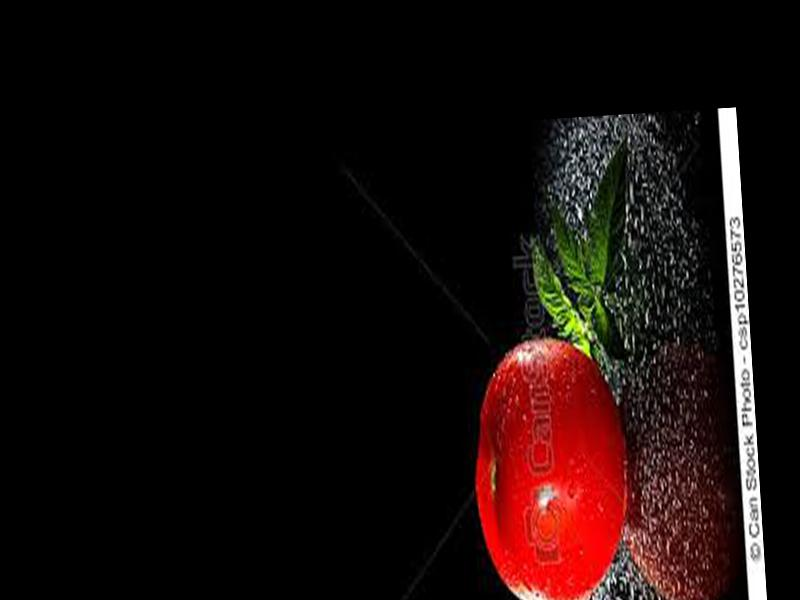Tomato: (466, 334, 634, 600)
